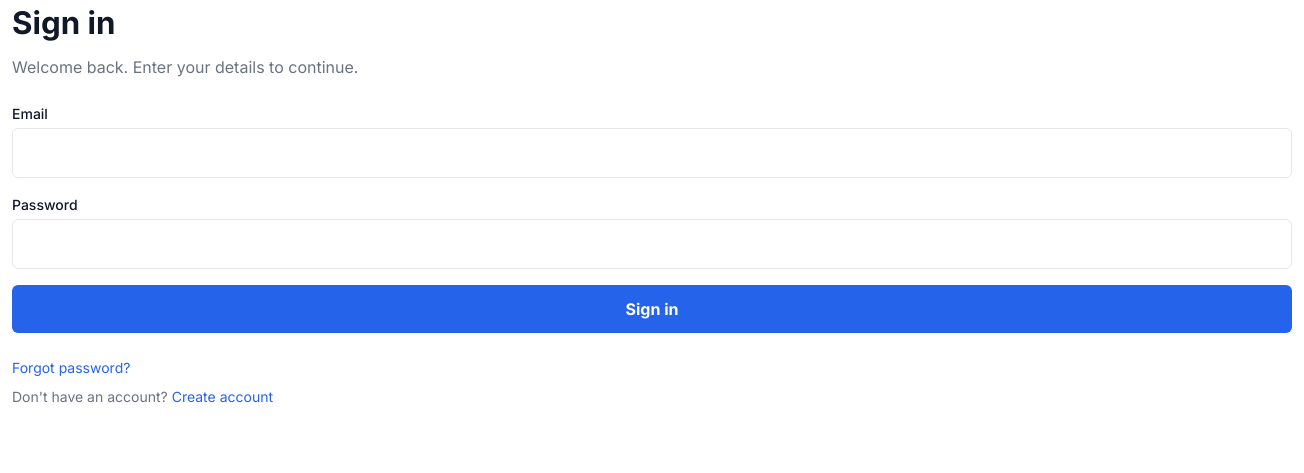
Test: SignInForm › shows an error and does not navigate when a network error is thrown
This screenshot has width=1304, height=473.
Type "a@b.com" into the field labelled "Email". click: (652, 153)
box: [12, 128, 1292, 178]
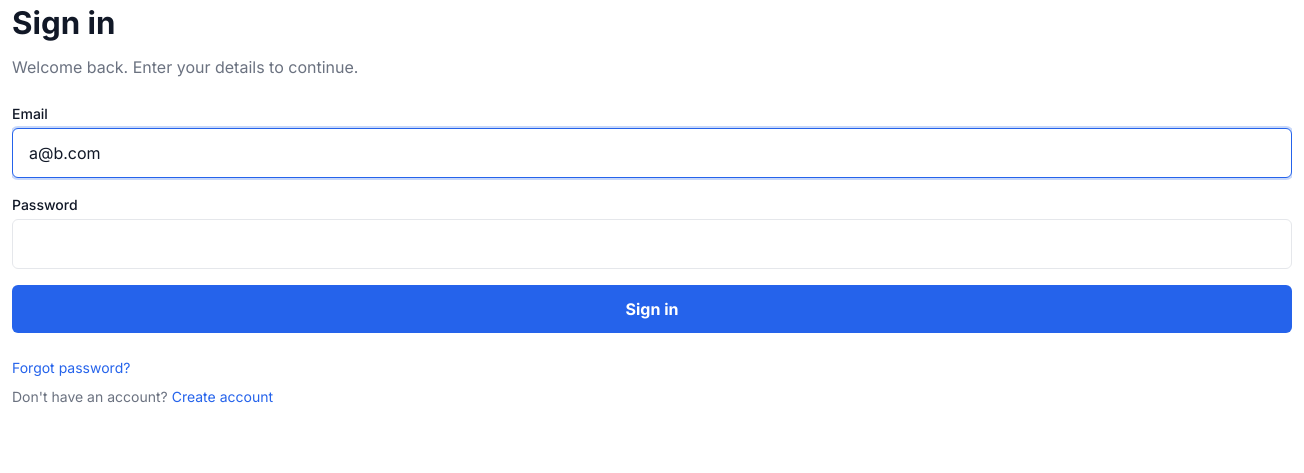
Type "secret123" into the password field labelled "Password". click: (652, 244)
box: [12, 219, 1292, 269]
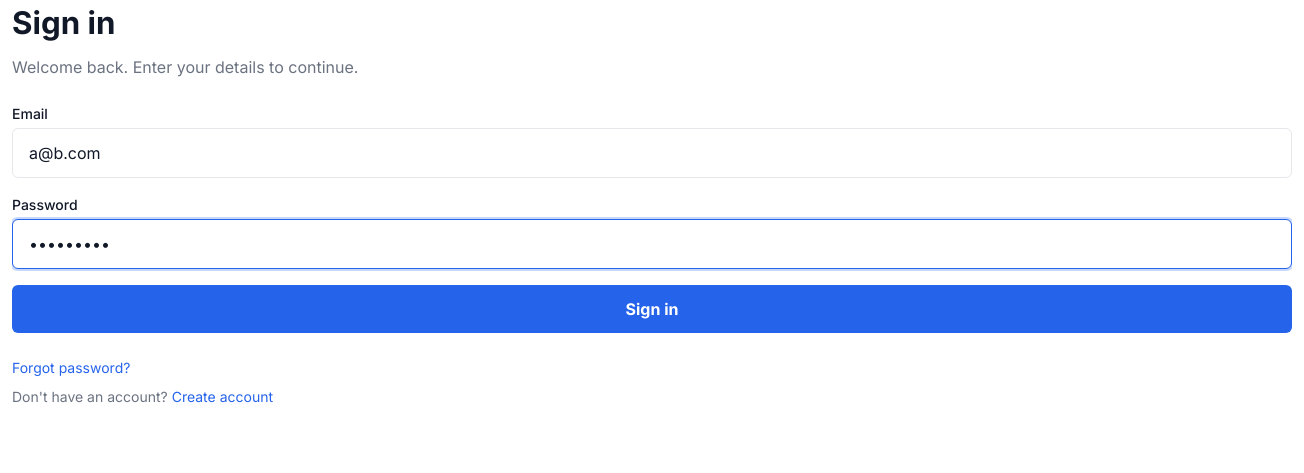
Click the button "Sign in". click: (652, 309)
box: [12, 285, 1292, 333]
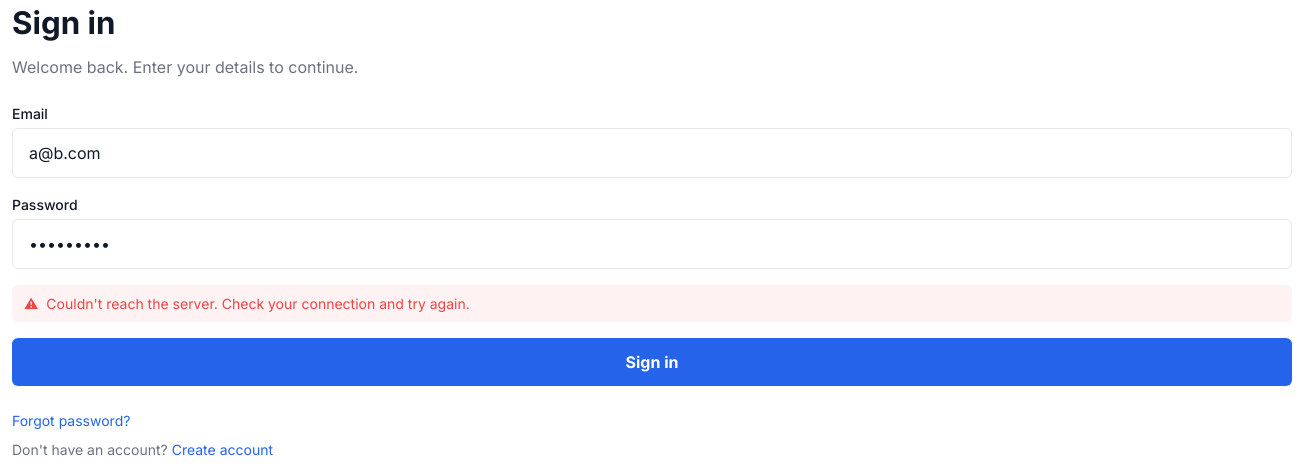
Check: the button "Sign in" is enabled, box [12, 338, 1292, 386]
Check: the message shows "connection", box [46, 295, 470, 312]
